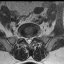CCS_normal: (27, 35, 30, 44)
LFS_stenosis: (32, 34, 35, 39)
LLS_normal: (30, 35, 32, 42)
RFS_stenosis: (22, 35, 25, 41)
RLS_normal: (25, 35, 27, 43)
